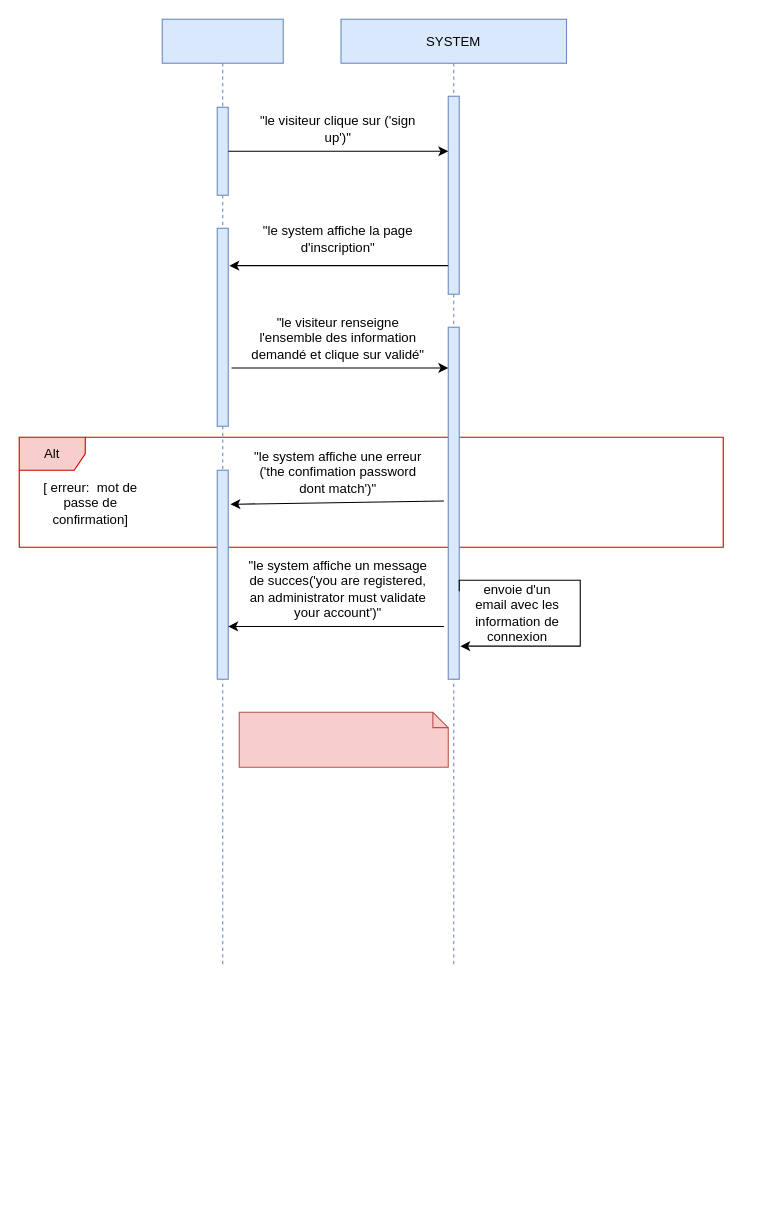
Image size: 766x1216. Some labels were removed from this diagram. Here are the shapes that lost their labels. From the top down, the centre of each, then its label:
At pixel 222 491: "Visiteur".
At pixel 343 739: "l'inscription est finalisé un administrateur valider maintenant le compte".
